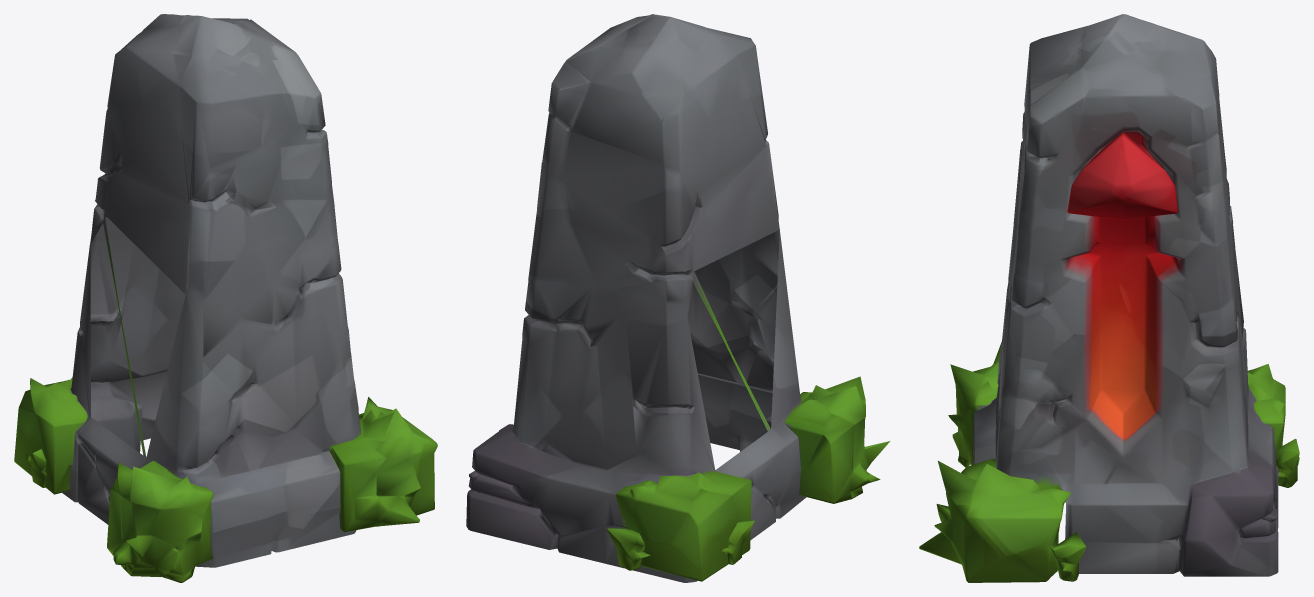
3 views of the same model, side by side, from view 1: azimuth 30°, elevation 25°; view 2: azimuth 150°, elevation 25°; view 3: azimuth 270°, elevation 25° (orthographic). The views are drawn at different scales.
Visible parts, largest first — view 1: tripo_node_db8201f3-f5a4-4245-a2ab-e7cfebcc6106; view 2: tripo_node_db8201f3-f5a4-4245-a2ab-e7cfebcc6106; view 3: tripo_node_db8201f3-f5a4-4245-a2ab-e7cfebcc6106.
Part boxes in pixels (x1,y1,x2,y2): tripo_node_db8201f3-f5a4-4245-a2ab-e7cfebcc6106: [14, 14, 437, 582]; tripo_node_db8201f3-f5a4-4245-a2ab-e7cfebcc6106: [466, 14, 890, 582]; tripo_node_db8201f3-f5a4-4245-a2ab-e7cfebcc6106: [919, 14, 1299, 582].
Bounding box in the file's own units: 0.6895 × 0.998 × 0.6934.
Materials: 1 (1 with a texture image).
